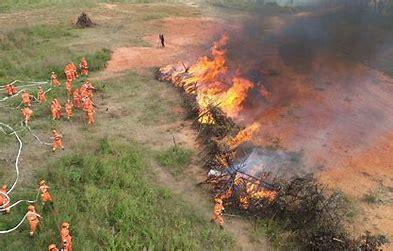smoke: (154, 39, 279, 204)
